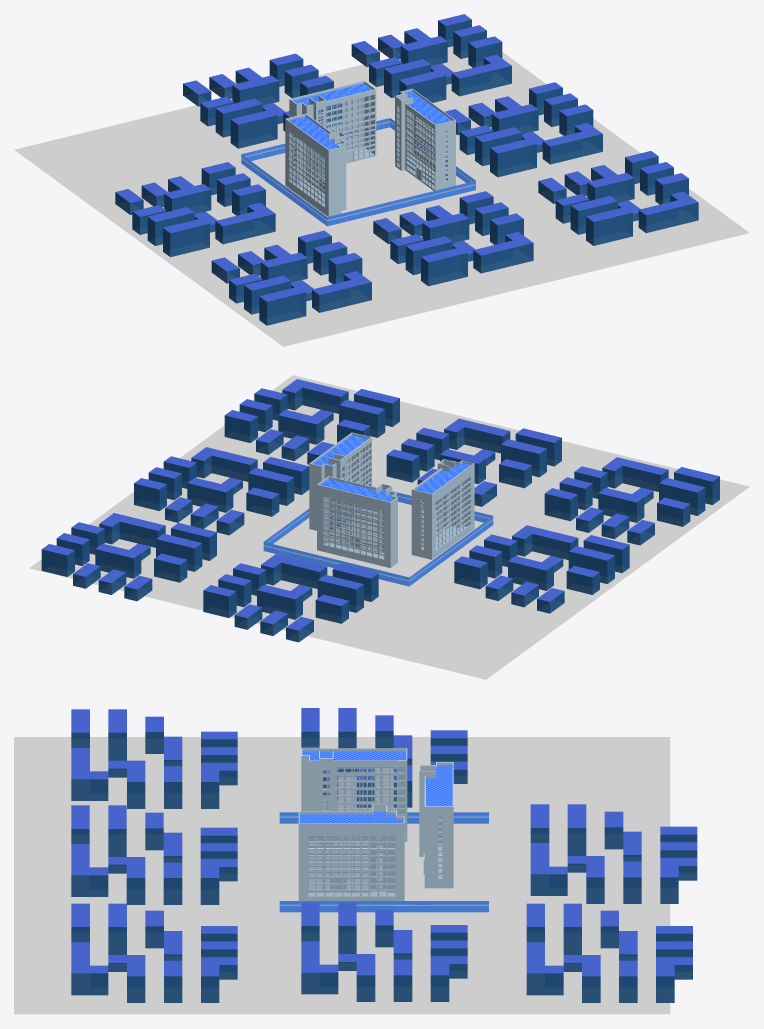
3 views of the same model, one above another, from view 1: azimuth 30°, elevation 25°; view 2: azimuth 150°, elevation 25°; view 3: azimuth 270°, elevation 25° (orthographic). The views are drawn at different scales.
Visible parts, largest first — view 1: 平面, 楼群.002, 楼群.003, 楼群.006, 楼群.004, 楼群, 楼群.005, 楼群.001, Cube.002, Cube, Cube.001, 平面.001; view 2: 平面, 楼群.005, 楼群, 楼群.001, 楼群.002, 楼群.006, 楼群.004, 楼群.003, Cube.001, Cube.002, Cube, 平面.001; view 3: 平面, Cube, 楼群.001, 楼群.003, 楼群, 楼群.006, 楼群.004, 楼群.005, Cube.002, 楼群.002, Cube.001, 平面.001.
Boxes of the visible parts, x1=… form: 平面: x1=14, y1=46, x2=749, y2=346; 楼群.002: x1=115, y1=162, x2=275, y2=257; 楼群.003: x1=373, y1=191, x2=533, y2=286; 楼群.006: x1=211, y1=230, x2=371, y2=325; 楼群.004: x1=538, y1=151, x2=698, y2=245; 楼群: x1=444, y1=82, x2=602, y2=177; 楼群.005: x1=351, y1=14, x2=511, y2=102; 楼群.001: x1=183, y1=53, x2=341, y2=148; Cube.002: x1=285, y1=113, x2=346, y2=216; Cube: x1=395, y1=88, x2=455, y2=190; Cube.001: x1=289, y1=80, x2=376, y2=172; 平面.001: x1=241, y1=118, x2=475, y2=226; 平面: x1=29, y1=375, x2=749, y2=679; 楼群.005: x1=41, y1=513, x2=216, y2=601; 楼群: x1=134, y1=447, x2=309, y2=535; 楼群.001: x1=203, y1=554, x2=378, y2=642; 楼群.002: x1=454, y1=525, x2=629, y2=613; 楼群.006: x1=544, y1=457, x2=719, y2=545; 楼群.004: x1=224, y1=379, x2=399, y2=464; 楼群.003: x1=386, y1=418, x2=561, y2=506; Cube.001: x1=317, y1=476, x2=397, y2=567; Cube.002: x1=411, y1=459, x2=474, y2=559; Cube: x1=309, y1=432, x2=371, y2=530; 平面.001: x1=263, y1=486, x2=493, y2=586; 平面: x1=14, y1=737, x2=670, y2=1014; Cube: x1=298, y1=804, x2=404, y2=900; 楼群.001: x1=530, y1=804, x2=697, y2=903; 楼群.003: x1=71, y1=805, x2=237, y2=904; 楼群: x1=301, y1=902, x2=467, y2=1001; 楼群.006: x1=71, y1=709, x2=237, y2=808; 楼群.004: x1=71, y1=903, x2=237, y2=1002; 楼群.005: x1=526, y1=903, x2=692, y2=1002; Cube.002: x1=301, y1=748, x2=407, y2=844; 楼群.002: x1=301, y1=708, x2=467, y2=807; Cube.001: x1=419, y1=762, x2=453, y2=888; 平面.001: x1=279, y1=812, x2=488, y2=912.
Size of the model in its own units: 808 by 118 by 874.
8 materials, 2 textured.
